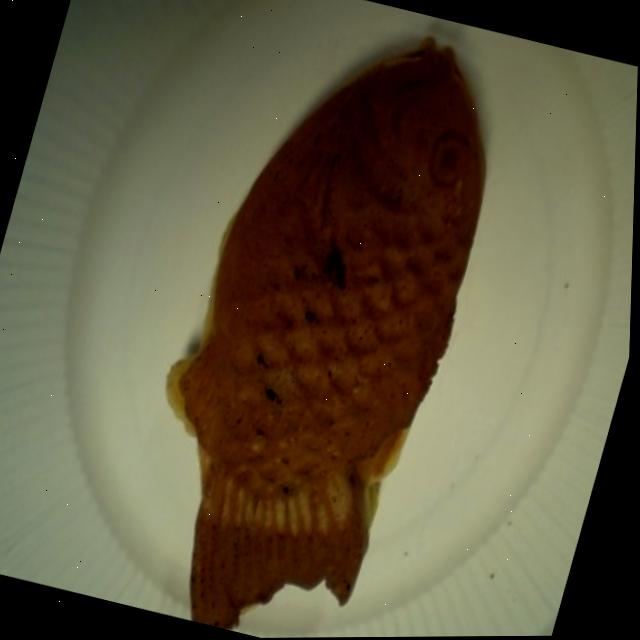熟制海鲜: (107, 0, 542, 639)
